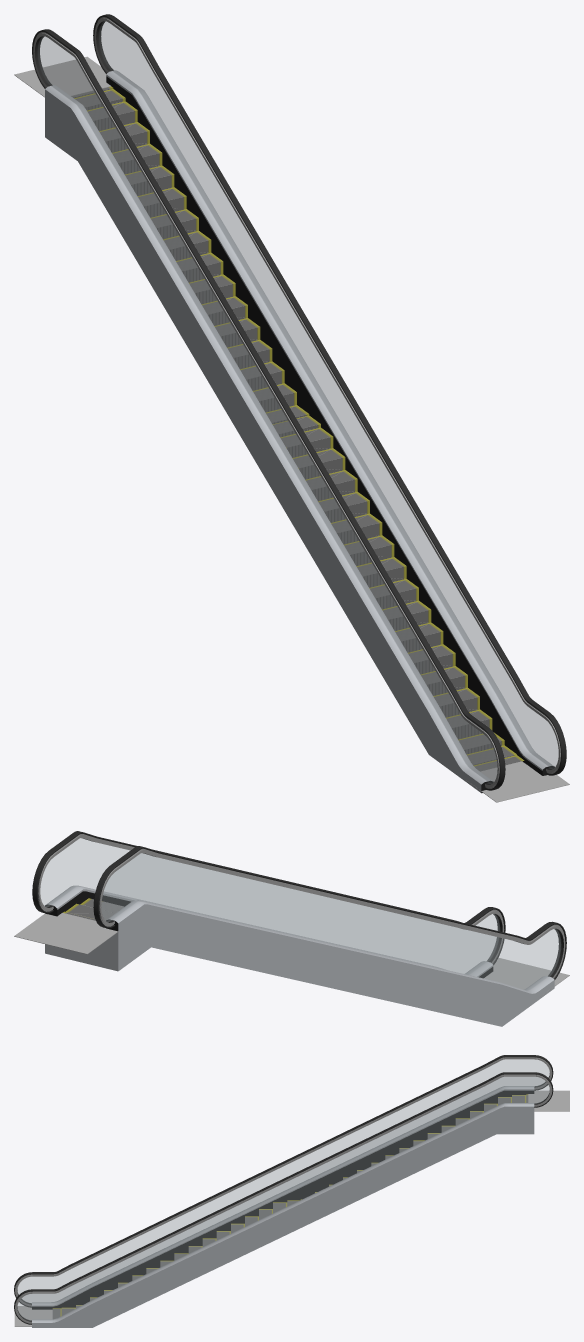
The model's file is escalatorextended.fbx.
The picture shows the model from 3 angles, top to bottom: view 1: azimuth 30°, elevation 25°; view 2: azimuth 150°, elevation 25°; view 3: azimuth 270°, elevation 25°; orthographic projection. The views are drawn at different scales.
Visible parts, largest first — view 1: basehandrail_Plane.001, glass_Cube, handrail_CUBezierCircle.001, Cube.001_Cube.002, Cube.001_Cube.003, metalicCover_Cube.002, MetalicCover_Cube.005; view 2: glass_Cube, basehandrail_Plane.001, handrail_CUBezierCircle.001, MetalicCover_Cube.005, metalicCover_Cube.002, Cube.001_Cube.003, lowCover_Plane.010; view 3: glass_Cube, basehandrail_Plane.001, handrail_CUBezierCircle.001, Cube.001_Cube.002, MetalicCover_Cube.005, Cube.001_Cube.003, metalicCover_Cube.002.
Part boxes in pixels (left/top/right/bottom): basehandrail_Plane.001: left=45, top=70, right=554, bottom=793; glass_Cube: left=37, top=21, right=558, bottom=783; handrail_CUBezierCircle.001: left=32, top=14, right=566, bottom=790; Cube.001_Cube.002: left=272, top=415, right=524, bottom=771; Cube.001_Cube.003: left=71, top=86, right=309, bottom=423; metalicCover_Cube.002: left=466, top=761, right=569, bottom=802; MetalicCover_Cube.005: left=14, top=56, right=110, bottom=97; glass_Cube: left=40, top=838, right=560, bottom=990; basehandrail_Plane.001: left=45, top=885, right=554, bottom=1026; handrail_CUBezierCircle.001: left=32, top=831, right=566, bottom=979; MetalicCover_Cube.005: left=14, top=913, right=118, bottom=954; metalicCover_Cube.002: left=484, top=958, right=569, bottom=997; Cube.001_Cube.003: left=63, top=898, right=123, bottom=920; lowCover_Plane.010: left=57, top=941, right=105, bottom=968; glass_Cube: left=17, top=1059, right=549, bottom=1320; basehandrail_Plane.001: left=32, top=1086, right=534, bottom=1327; handrail_CUBezierCircle.001: left=14, top=1055, right=553, bottom=1324; Cube.001_Cube.002: left=52, top=1200, right=299, bottom=1319; MetalicCover_Cube.005: left=528, top=1090, right=569, bottom=1111; Cube.001_Cube.003: left=301, top=1094, right=528, bottom=1199; metalicCover_Cube.002: left=14, top=1306, right=52, bottom=1326.
Size of the model in its own units: 632 by 3614 by 7183.
8 materials, 2 textured.
